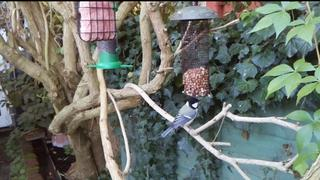great tit: (160, 97, 201, 138)
